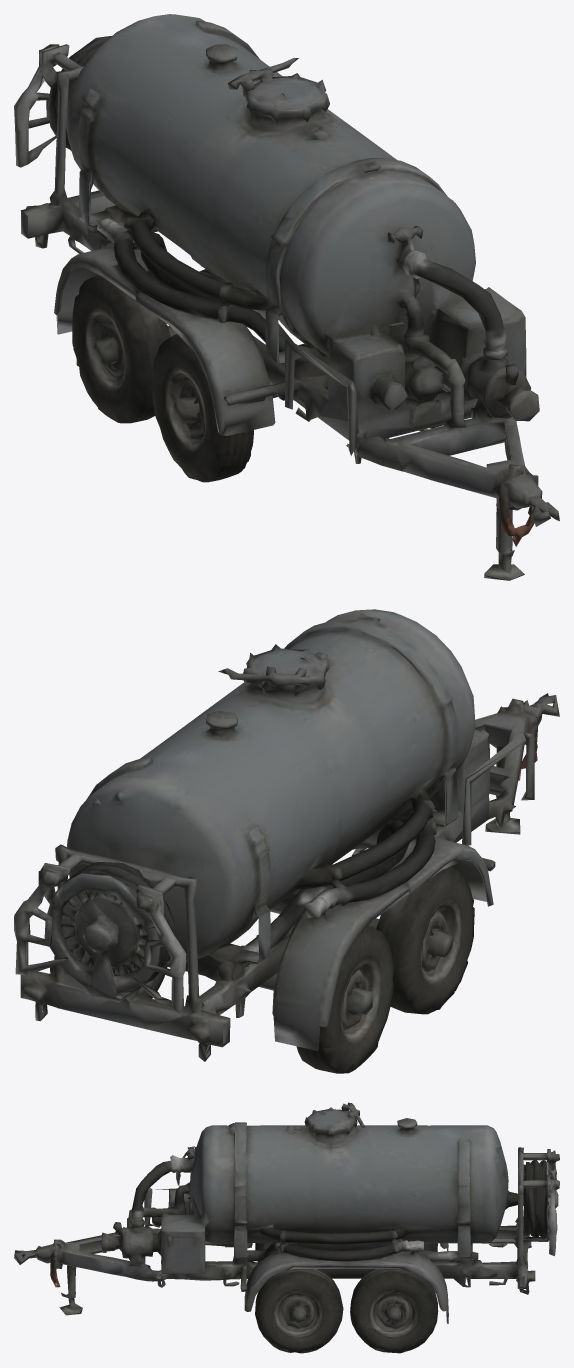
The model's file is prop_bowser.glb.
3 views of the same model, one above another, from view 1: azimuth 30°, elevation 25°; view 2: azimuth 150°, elevation 25°; view 3: azimuth 270°, elevation 25° (orthographic). The views are drawn at different scales.
Visible parts, largest first — view 1: tripo_node_e3543b36-1769-470e-aeb7-e2bb79ed5ce2; view 2: tripo_node_e3543b36-1769-470e-aeb7-e2bb79ed5ce2; view 3: tripo_node_e3543b36-1769-470e-aeb7-e2bb79ed5ce2.
Part boxes in pixels (box(x1,y1,x2,y2)): tripo_node_e3543b36-1769-470e-aeb7-e2bb79ed5ce2: box(14, 14, 559, 580); tripo_node_e3543b36-1769-470e-aeb7-e2bb79ed5ce2: box(14, 609, 559, 1073); tripo_node_e3543b36-1769-470e-aeb7-e2bb79ed5ce2: box(14, 1102, 559, 1353).
Size of the model in its own units: 0.3463 by 0.4173 by 1.
Materials: 1 (1 with a texture image).
